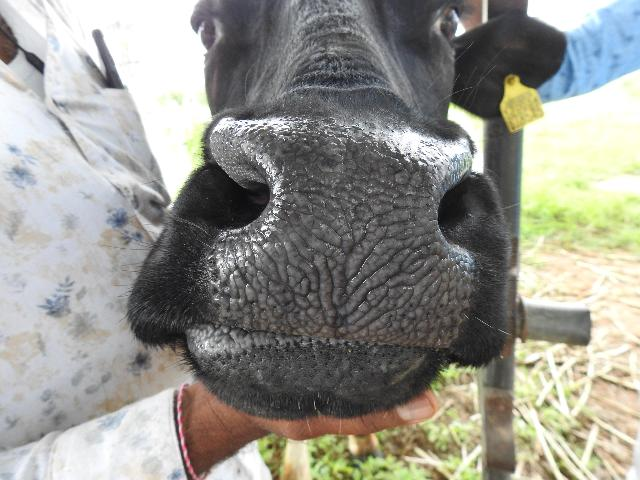Muzzle: (257, 123, 439, 335)
